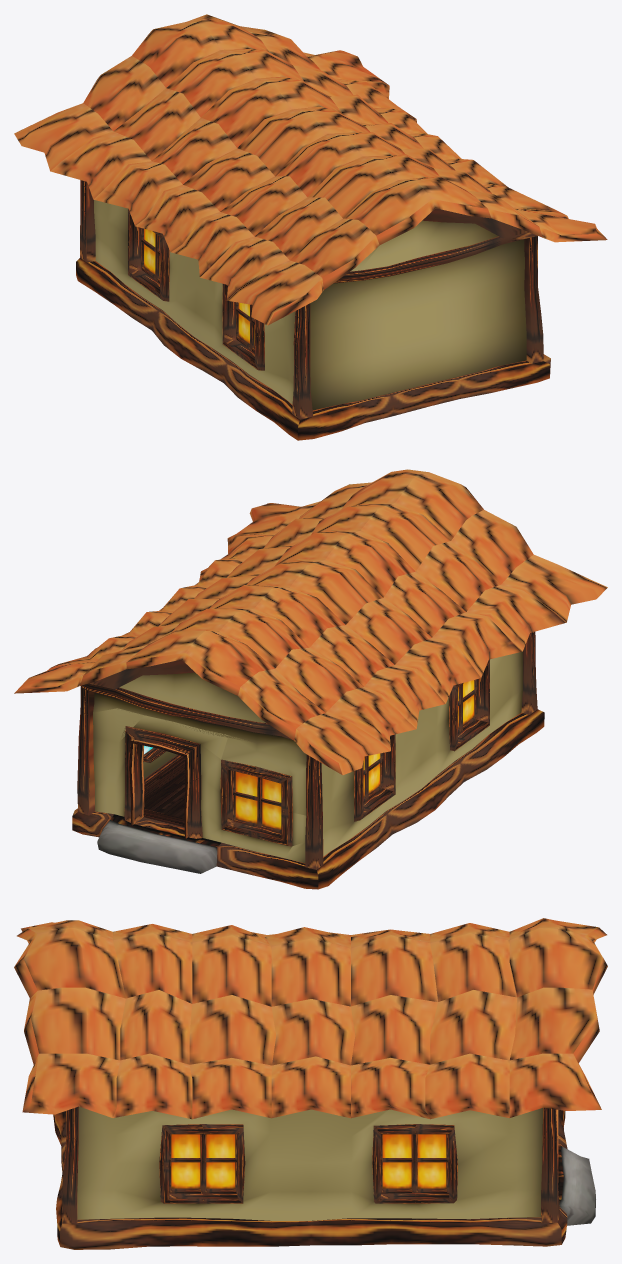
File: house_small.glb
The picture shows the model from 3 angles, top to bottom: view 1: azimuth 30°, elevation 25°; view 2: azimuth 150°, elevation 25°; view 3: azimuth 270°, elevation 25°; orthographic projection. The views are drawn at different scales.
Visible parts, largest first — view 1: Mesh_0; view 2: Mesh_0; view 3: Mesh_0.
Boxes of the visible parts, bbox=[...] form: Mesh_0: bbox=[14, 14, 607, 440]; Mesh_0: bbox=[14, 469, 607, 889]; Mesh_0: bbox=[14, 918, 607, 1249].
Bounding box in the file's own units: 24.25 × 14.99 × 32.17.
1 material, 1 textured.
